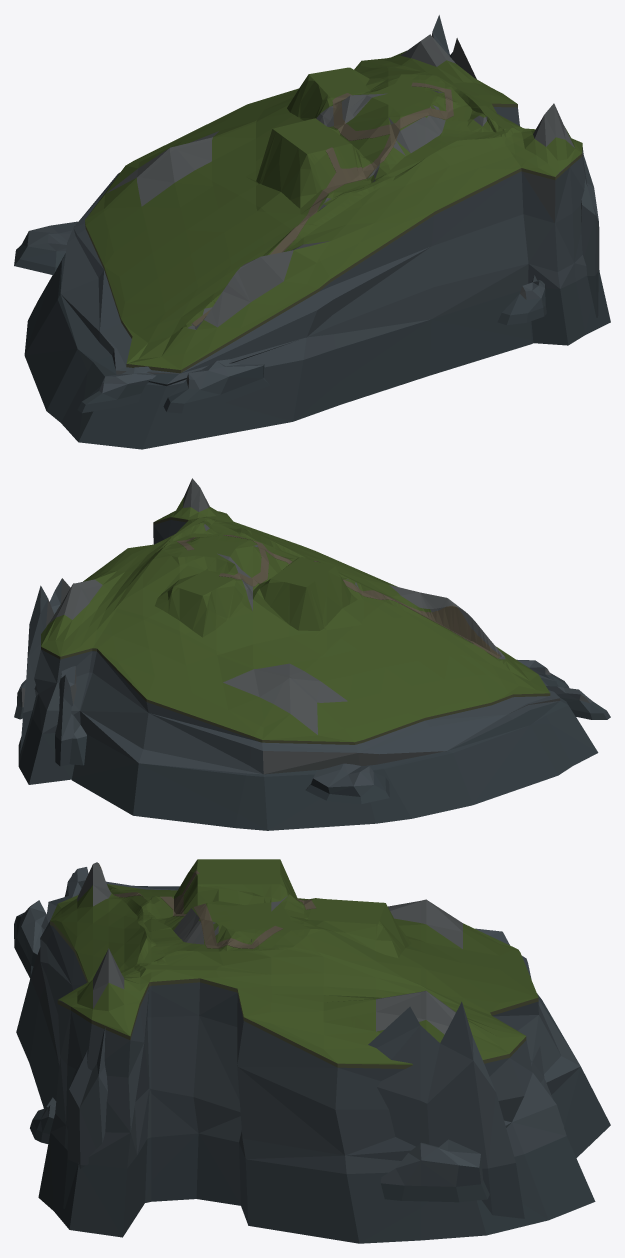
File: island_a.glb
The picture shows the model from 3 angles, top to bottom: view 1: azimuth 30°, elevation 25°; view 2: azimuth 150°, elevation 25°; view 3: azimuth 270°, elevation 25°; orthographic projection. The views are drawn at different scales.
Visible parts, largest first — view 1: island_a grass and exposed rock terrain, island_a faulted bedrock, island_a terrain fitted keeper paths, island_a low shore ledge 01, island_a low shore ledge 04, island_a low shore ledge 00, island_a cliff outcrop 00, island_a low shore ledge 02, island_a cliff outcrop 01; view 2: island_a grass and exposed rock terrain, island_a faulted bedrock, island_a low shore ledge 04, island_a terrain fitted keeper paths, island_a cliff outcrop 01, island_a cliff outcrop 02, island_a low shore ledge 00; view 3: island_a faulted bedrock, island_a grass and exposed rock terrain, island_a cliff outcrop 01, island_a low shore ledge 03, island_a cliff outcrop 00, island_a terrain fitted keeper paths, island_a low shore ledge 01, island_a low shore ledge 02.
Boxes of the visible parts, x1,y1,x2,y2 form: island_a grass and exposed rock terrain: (85, 34, 582, 373); island_a faulted bedrock: (24, 107, 610, 449); island_a terrain fitted keeper paths: (192, 82, 453, 326); island_a low shore ledge 01: (163, 359, 269, 413); island_a low shore ledge 04: (14, 221, 77, 274); island_a low shore ledge 00: (77, 366, 156, 413); island_a cliff outcrop 00: (581, 151, 599, 317); island_a low shore ledge 02: (497, 275, 546, 325); island_a cliff outcrop 01: (432, 15, 476, 79); island_a grass and exposed rock terrain: (41, 478, 550, 744); island_a faulted bedrock: (18, 520, 598, 830); island_a low shore ledge 04: (305, 763, 389, 804); island_a terrain fitted keeper paths: (177, 535, 500, 658); island_a cliff outcrop 01: (20, 578, 70, 753); island_a cliff outcrop 02: (55, 666, 86, 766); island_a low shore ledge 00: (546, 686, 610, 719); island_a faulted bedrock: (16, 881, 610, 1243); island_a grass and exposed rock terrain: (50, 859, 538, 1068); island_a cliff outcrop 01: (368, 1001, 524, 1218); island_a low shore ledge 03: (380, 1139, 489, 1202); island_a cliff outcrop 00: (63, 1028, 107, 1208); island_a terrain fitted keeper paths: (98, 863, 316, 948); island_a low shore ledge 01: (14, 900, 49, 978); island_a low shore ledge 02: (30, 1097, 56, 1143).
Bounding box in the file's own units: 113 × 42.35 × 88.71.
